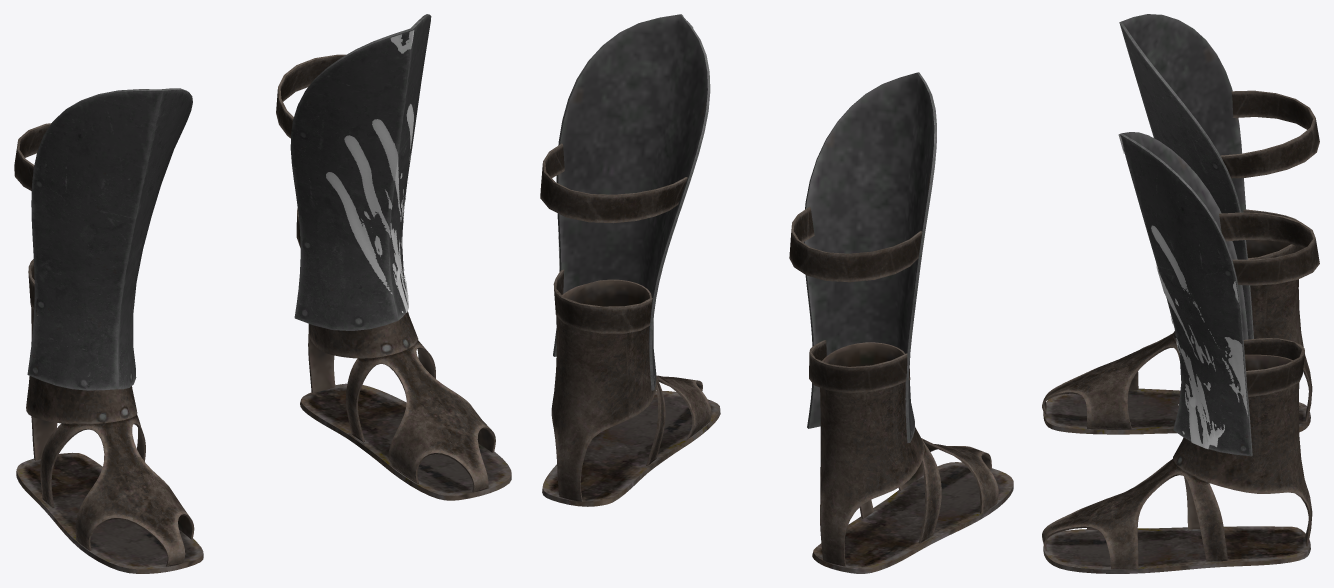
Rendered from sk_uruk_hai_greaves_medium_b2.fbx.
3 renders of one model, left to right at view 1: azimuth 30°, elevation 25°; view 2: azimuth 150°, elevation 25°; view 3: azimuth 270°, elevation 25°, orthographic. The views are drawn at different scales.
Parts seen in each view (by area): view 1: sk_uruk_hai_greaves_medium_b2.0, sk_uruk_hai_greaves_medium_b2.2, sk_uruk_hai_greaves_medium_b2.1; view 2: sk_uruk_hai_greaves_medium_b2.0, sk_uruk_hai_greaves_medium_b2.1; view 3: sk_uruk_hai_greaves_medium_b2.0, sk_uruk_hai_greaves_medium_b2.1, sk_uruk_hai_greaves_medium_b2.2.
Boxes of the visible parts, x1,y1,x2,y2 form: sk_uruk_hai_greaves_medium_b2.0: (16,14,511,573); sk_uruk_hai_greaves_medium_b2.2: (326,30,414,312); sk_uruk_hai_greaves_medium_b2.1: (14,54,345,315); sk_uruk_hai_greaves_medium_b2.0: (542,14,1013,573); sk_uruk_hai_greaves_medium_b2.1: (540,143,922,393); sk_uruk_hai_greaves_medium_b2.0: (1042,14,1312,573); sk_uruk_hai_greaves_medium_b2.1: (1219,90,1319,397); sk_uruk_hai_greaves_medium_b2.2: (1118,134,1248,449).
Bounding box in the file's own units: 0.4635 × 0.2991 × 0.4848.
Materials: 3 (3 with a texture image).
